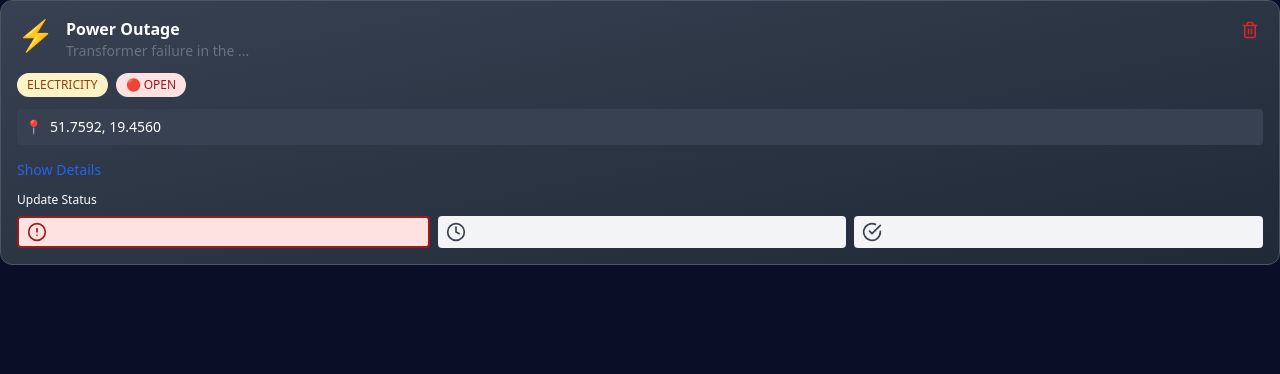
Test: IncidentCard › toggles the details section
What coordinates should you click on to do the following:
click the button "Show Details"
I would click on:
 (35, 170)
Its box is [17,160,1263,180].
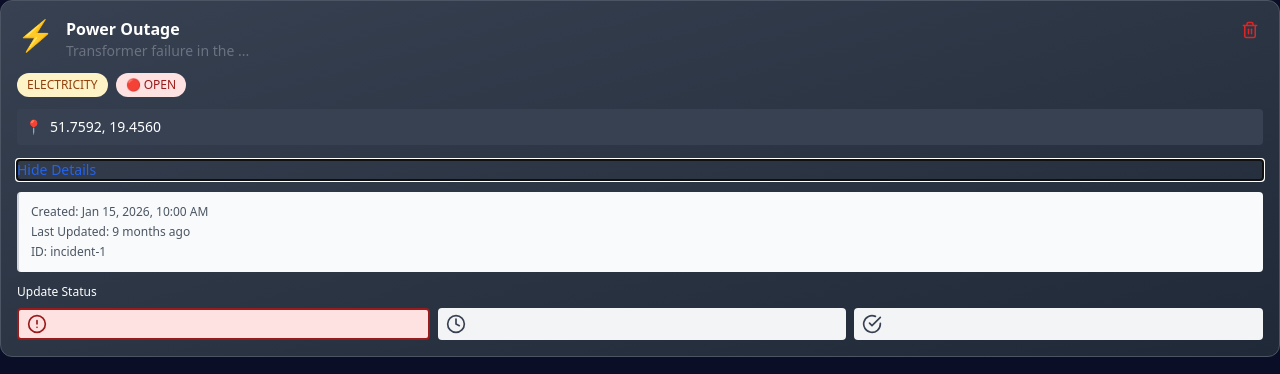
Now the text "incident-1" is shown, box [50,243,106,260]
What coordinates should you click on to do the following:
click the button "Hide Details"
I would click on:
 (32, 170)
Its box is [17,160,1263,180].
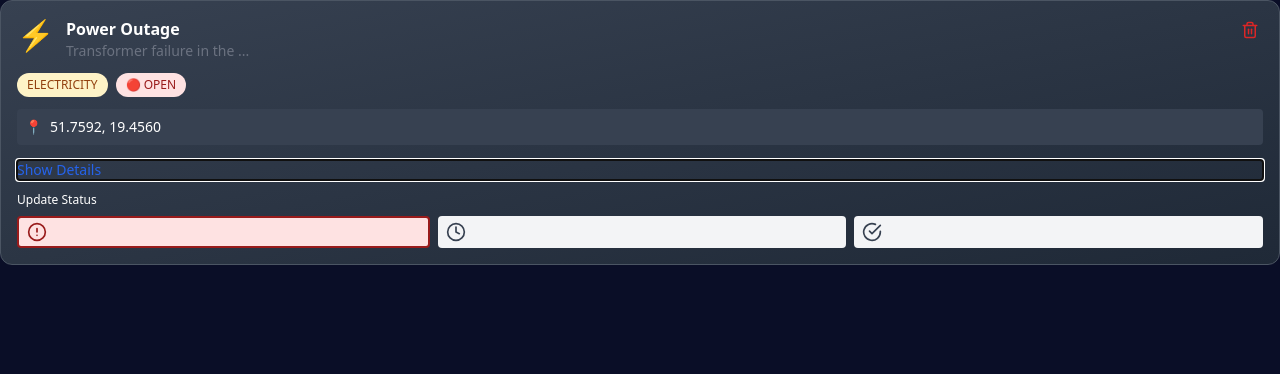
Now the text "incident-1" is gone
